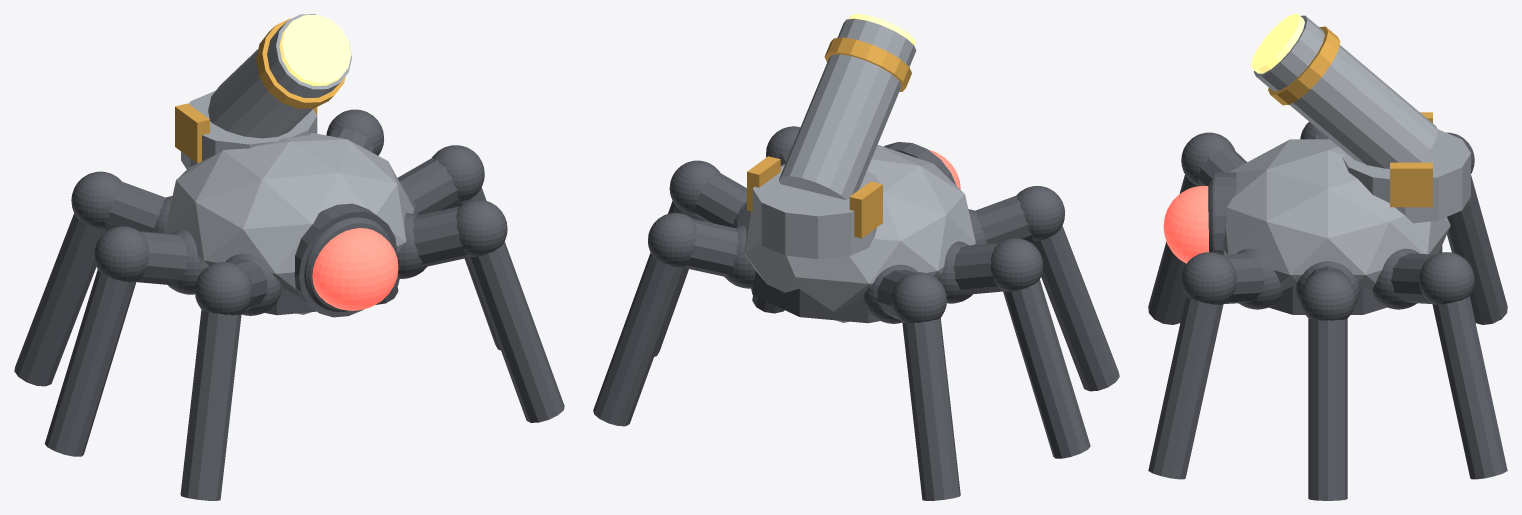
The model's file is mortar.glb.
3 renders of one model, left to right at view 1: azimuth 30°, elevation 25°; view 2: azimuth 150°, elevation 25°; view 3: azimuth 270°, elevation 25°, orthographic. The views are drawn at different scales.
Parts seen in each view (by area): view 1: core, shin_0, shin_1, shin_3, shin_2, mortar, eye, muzzle, knee_0, knee_1, eyeplate, thigh_3 (+16 smaller); view 2: core, mortar, shin_2, cap, shin_1, shin_5, shin_0, knee_2, hub, knee_1, thigh_5, knee_5 (+14 smaller); view 3: core, mortar, shin_4, shin_3, shin_5, cap, shin_2, eye, knee_3, knee_5, knee_4, shin_0 (+13 smaller).
Boxes of the visible parts, left/top/right/bottom form: core: left=164, top=132, right=414, bottom=314; shin_0: left=180, top=310, right=241, bottom=500; shin_1: left=44, top=269, right=136, bottom=456; shin_3: left=467, top=241, right=564, bottom=422; shin_2: left=14, top=213, right=107, bottom=386; mortar: left=208, top=14, right=351, bottom=138; eye: left=312, top=228, right=398, bottom=310; muzzle: left=279, top=15, right=351, bottom=85; knee_0: left=194, top=262, right=252, bottom=315; knee_1: left=94, top=226, right=148, bottom=282; eyeplate: left=294, top=203, right=397, bottom=317; thigh_3: left=412, top=206, right=468, bottom=266; core: left=737, top=144, right=975, bottom=322; mortar: left=778, top=18, right=916, bottom=199; shin_2: left=902, top=318, right=960, bottom=500; cap: left=752, top=165, right=879, bottom=259; shin_1: left=1003, top=279, right=1090, bottom=458; shin_5: left=593, top=253, right=686, bottom=426; shin_0: left=1030, top=226, right=1119, bottom=391; knee_2: left=891, top=272, right=946, bottom=323; hub: left=751, top=271, right=879, bottom=323; knee_1: left=990, top=238, right=1043, bottom=291; thigh_5: left=685, top=219, right=738, bottom=276; knee_5: left=648, top=213, right=696, bottom=267; core: left=1223, top=139, right=1450, bottom=289; mortar: left=1254, top=15, right=1438, bottom=168; shin_4: left=1308, top=318, right=1347, bottom=500; shin_3: left=1148, top=296, right=1223, bottom=479; shin_5: left=1432, top=296, right=1507, bottom=479; cap: left=1341, top=129, right=1470, bottom=223; shin_2: left=1447, top=175, right=1507, bottom=324; eye: left=1163, top=185, right=1208, bottom=263; knee_3: left=1181, top=252, right=1236, bottom=304; knee_5: left=1419, top=252, right=1474, bottom=304; knee_4: left=1300, top=270, right=1355, bottom=320; shin_0: left=1148, top=174, right=1198, bottom=324.
Size of the model in its own units: 4.51 by 3.53 by 3.02.
